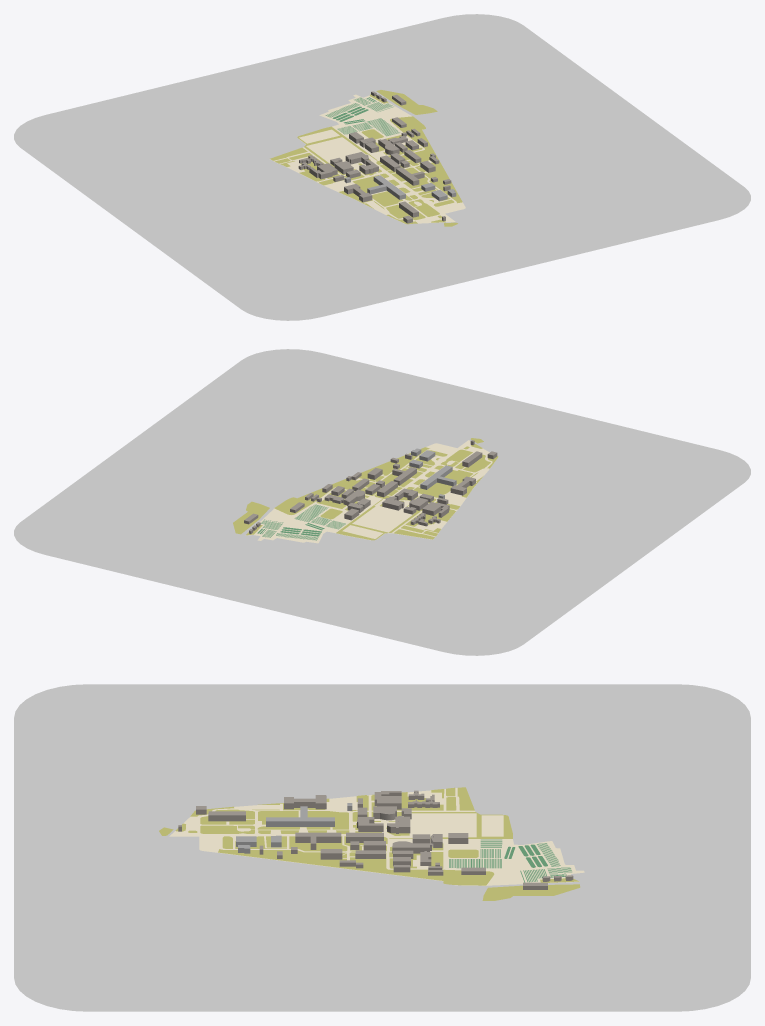
File: tabsBookMapsUedaCampus.fbx
The picture shows the model from 3 angles, top to bottom: view 1: azimuth 30°, elevation 25°; view 2: azimuth 150°, elevation 25°; view 3: azimuth 270°, elevation 25°; orthographic projection. The views are drawn at different scales.
Visible parts, largest first — view 1: BG, Ground, Grass, Crops; view 2: BG, Ground, Grass, Crops; view 3: BG, Ground, Grass, Crops, Buildings, Buildings.044.
Part boxes in pixels (box(x1,y1,x2,y2)): BG: box(14, 14, 750, 320); Ground: box(270, 94, 465, 223); Grass: box(270, 90, 462, 226); Crops: box(325, 97, 399, 136); BG: box(14, 349, 750, 655); Ground: box(245, 440, 496, 543); Grass: box(233, 438, 498, 540); Crops: box(257, 504, 345, 540); BG: box(14, 684, 750, 1011); Ground: box(169, 788, 584, 885); Grass: box(159, 787, 580, 900); Crops: box(449, 839, 571, 882); Buildings: box(266, 806, 334, 826); Buildings.044: box(295, 832, 341, 849).
Bounding box in the file's own units: 99.68 × 1.99 × 94.83.
